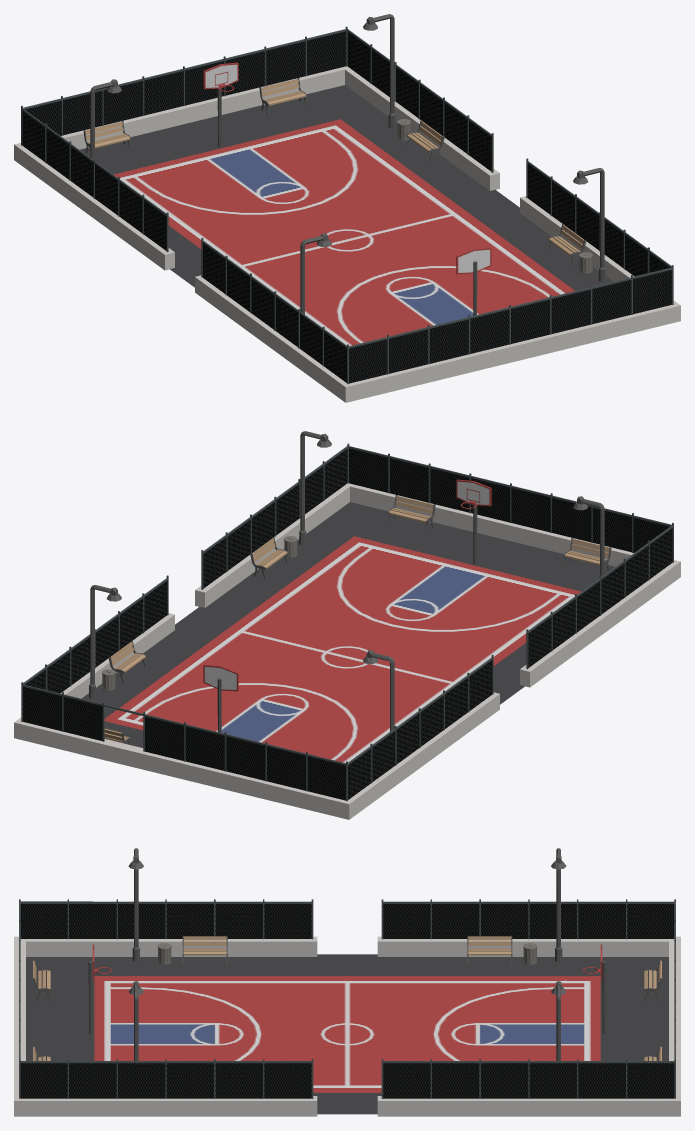
File: ghetto_basketball_field.fbx
3 views of the same model, one above another, from view 1: azimuth 30°, elevation 25°; view 2: azimuth 150°, elevation 25°; view 3: azimuth 270°, elevation 25° (orthographic).
Parts seen in each view (by area): view 1: basketball_field; view 2: basketball_field; view 3: basketball_field.
Part boxes in pixels (<box>): basketball_field: <box>14,14,680,402</box>; basketball_field: <box>14,431,680,819</box>; basketball_field: <box>14,848,680,1116</box>.
Bounding box in the file's own units: 2240 × 734 × 3840.
